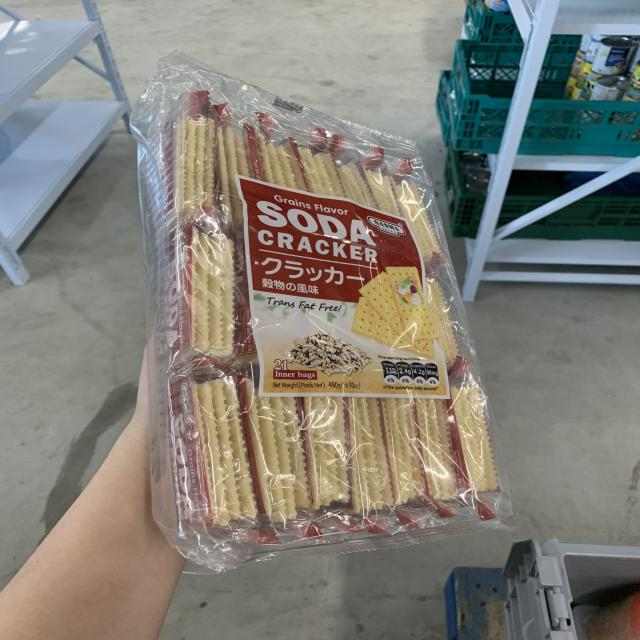object_name: (141, 84, 487, 533)
